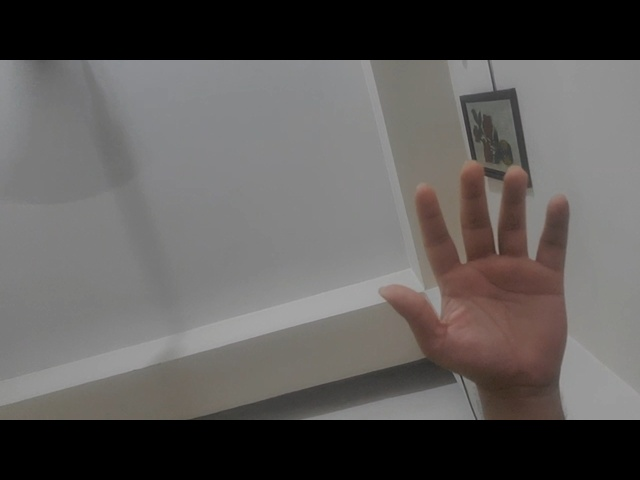Hello: (373, 152, 580, 400)
